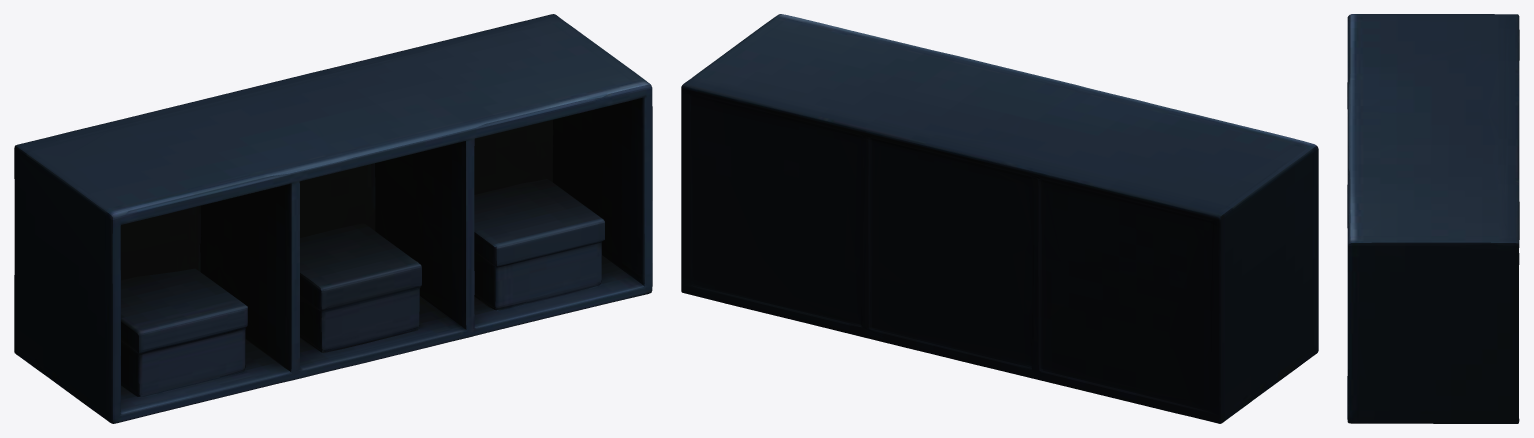
The model's file is deposito.glb.
The picture shows the model from 3 angles, left to right: view 1: azimuth 30°, elevation 25°; view 2: azimuth 150°, elevation 25°; view 3: azimuth 270°, elevation 25°; orthographic projection. The views are drawn at different scales.
Bounding box in the file's own units: 1 × 0.3712 × 0.3169.
1 material, 1 textured.
